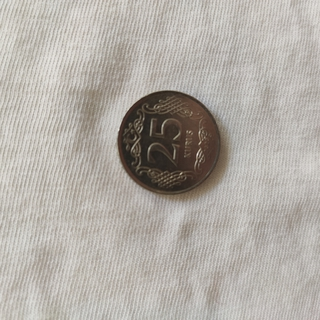25KURUS: (116, 89, 222, 195)
